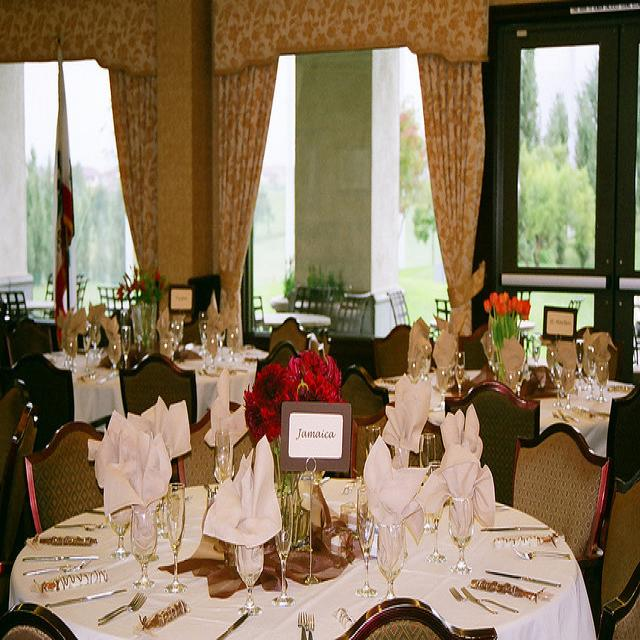chair: (513, 426, 619, 572), (22, 421, 104, 533), (1, 405, 41, 614), (333, 593, 503, 640), (121, 351, 198, 425), (374, 326, 436, 379), (342, 364, 391, 416), (5, 318, 52, 367), (327, 296, 375, 336), (255, 340, 300, 378), (268, 317, 309, 356), (388, 290, 410, 325)
dining table: (9, 477, 596, 633), (375, 371, 633, 460), (44, 352, 127, 426), (170, 341, 269, 387), (263, 312, 331, 327), (26, 301, 56, 313)
